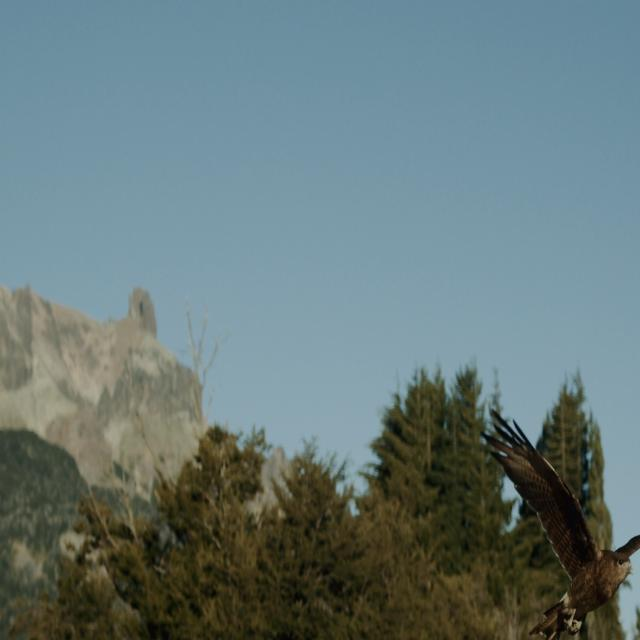bird: (476, 400, 640, 640)
